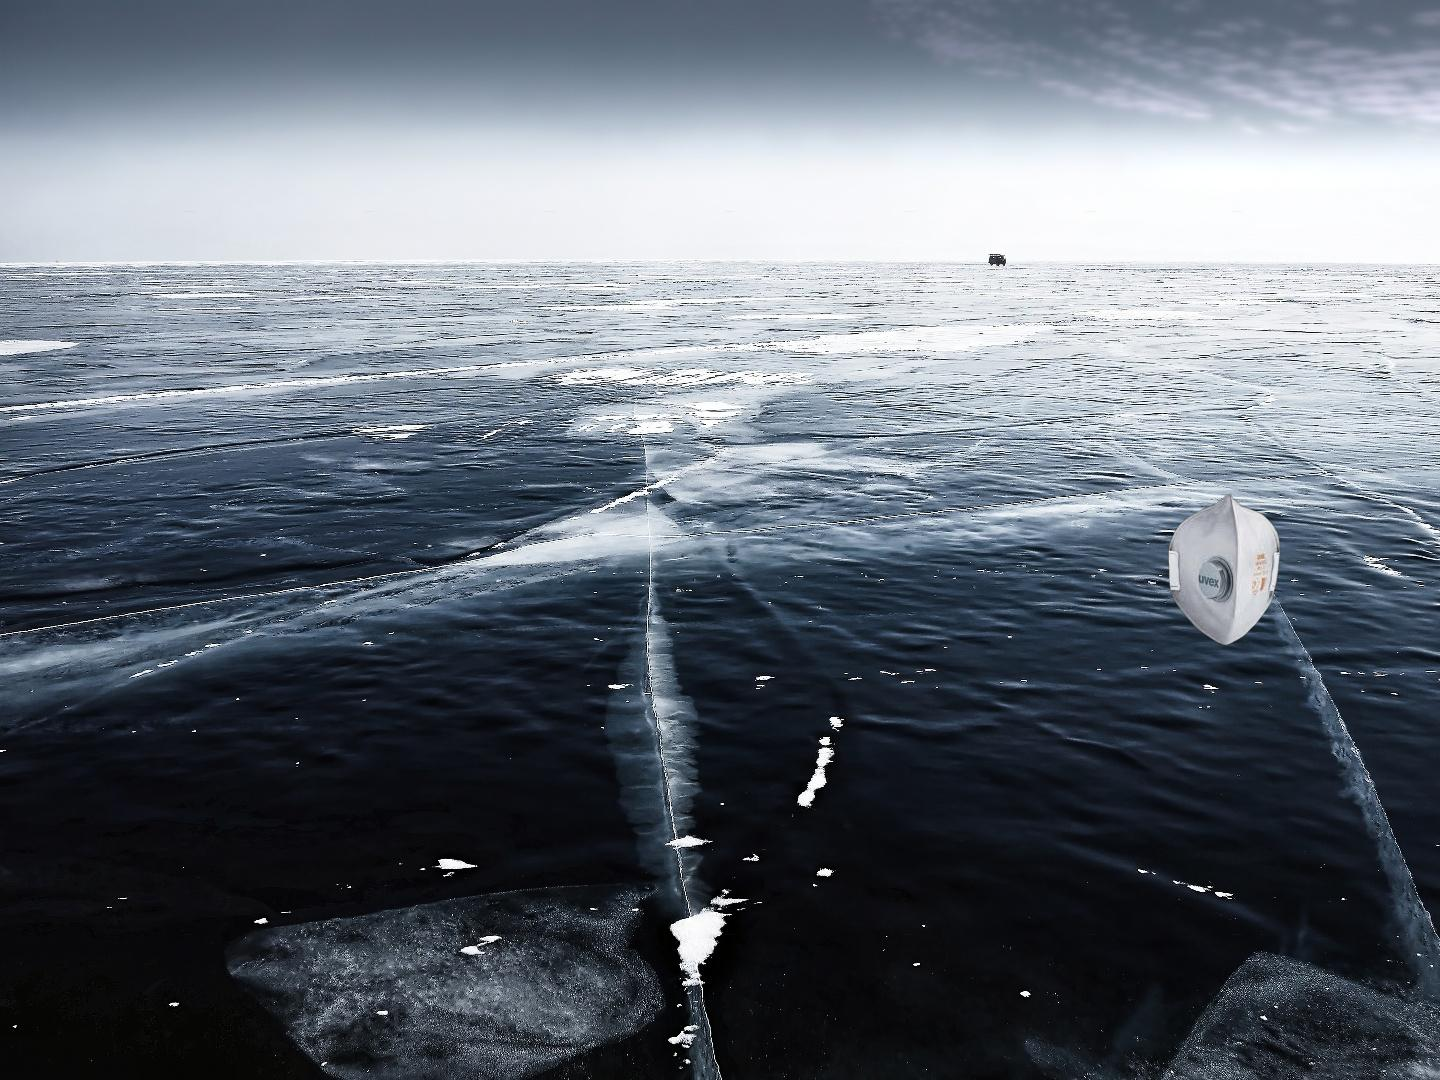trash: (1164, 491, 1284, 648)
